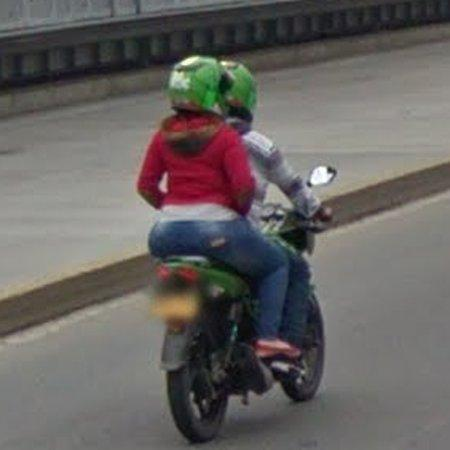motorcycles: (153, 205, 330, 444)
